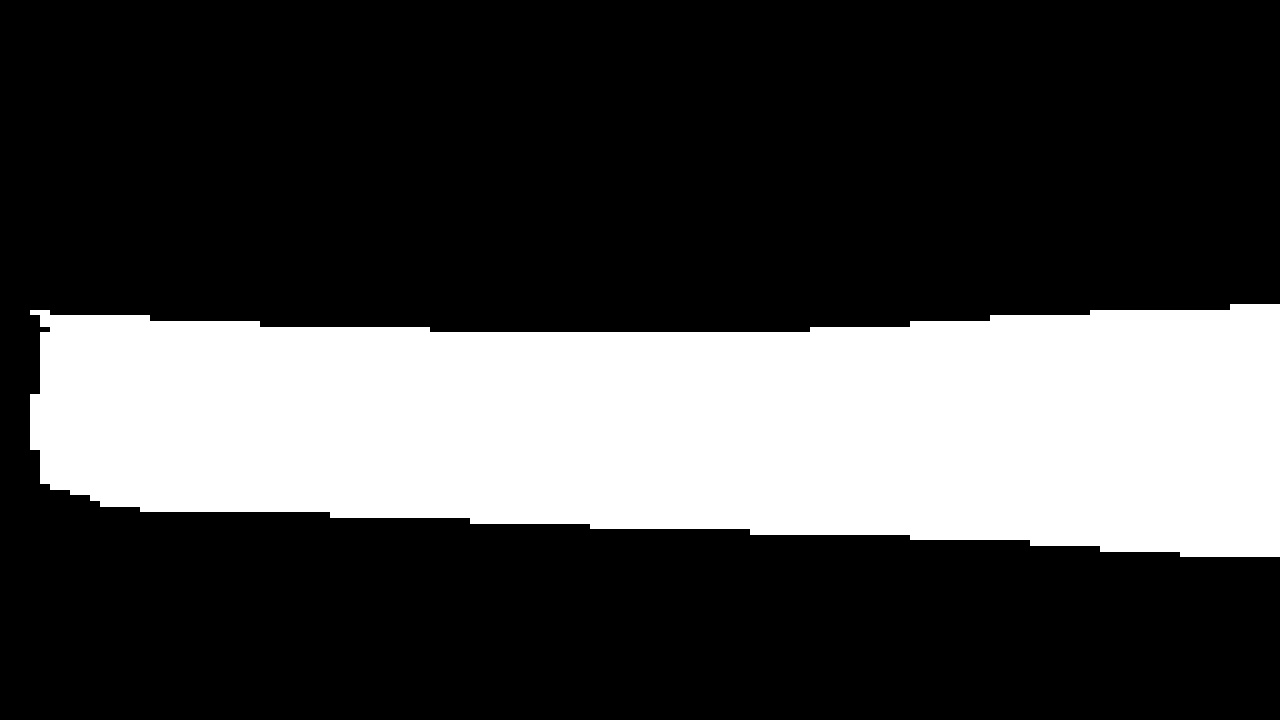Turbine: (9, 293, 1275, 526)
